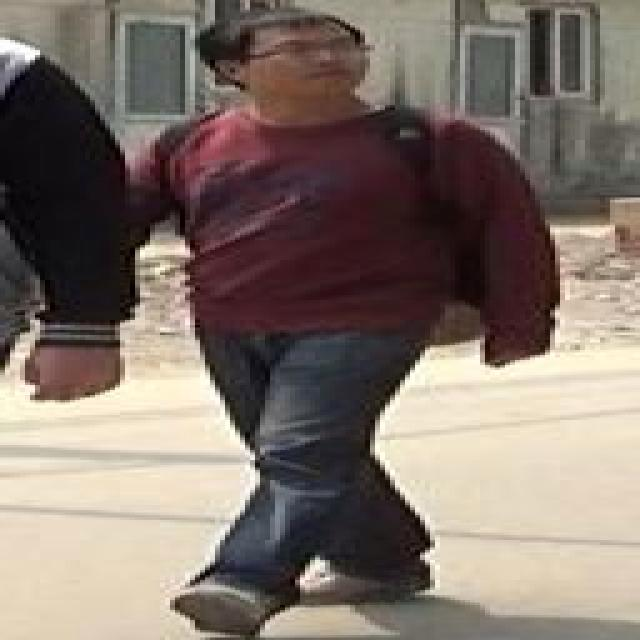adult: (105, 6, 568, 626)
